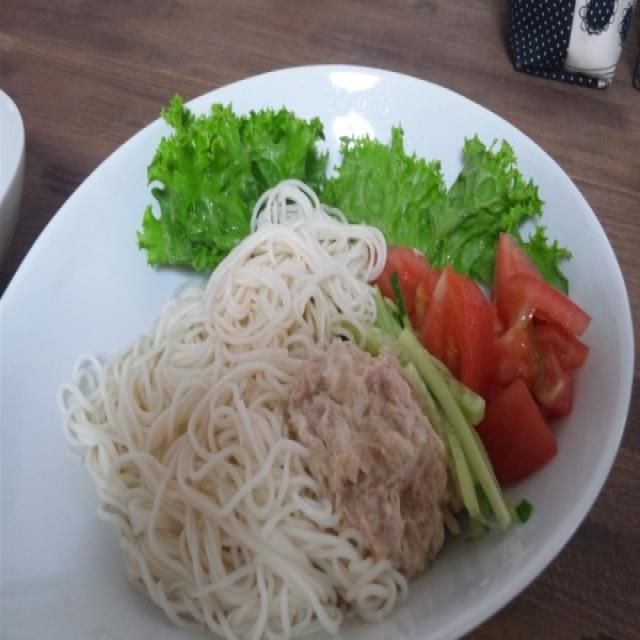面条主食: (32, 101, 533, 629)
